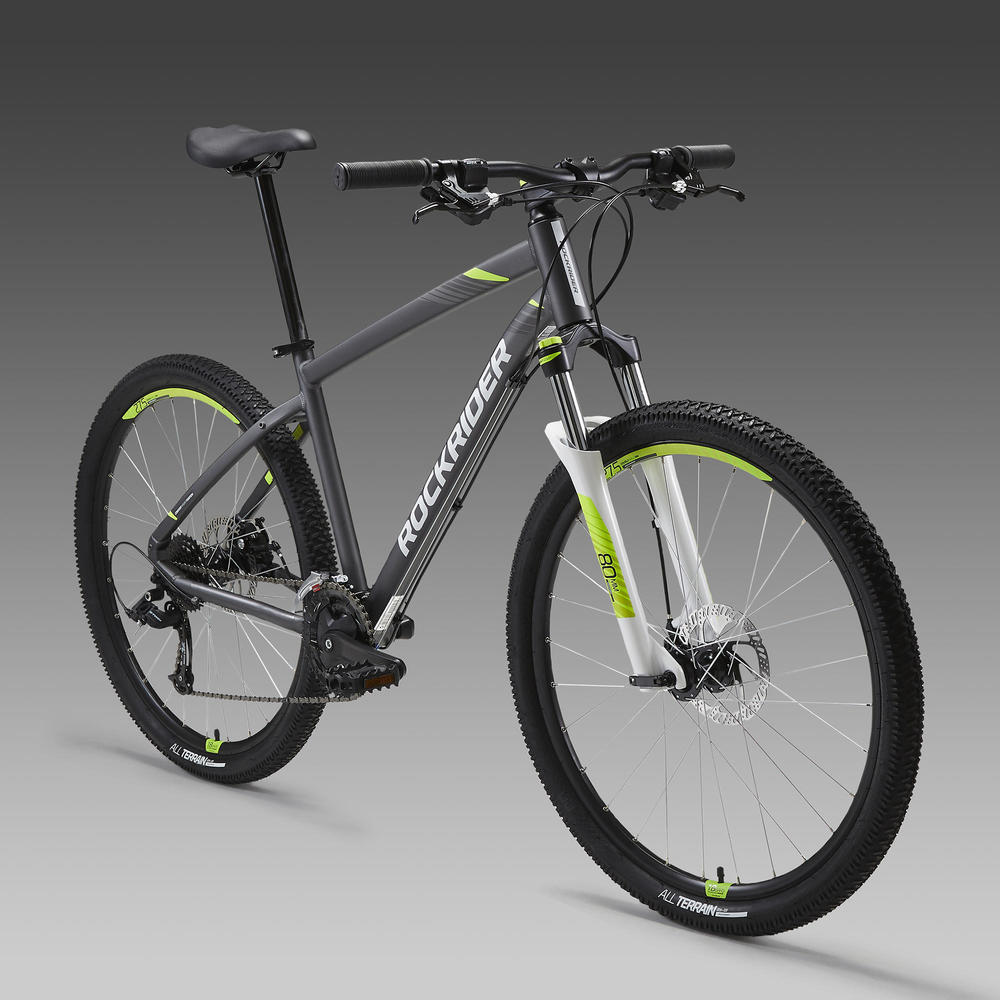MountainBike: (76, 126, 925, 929)
